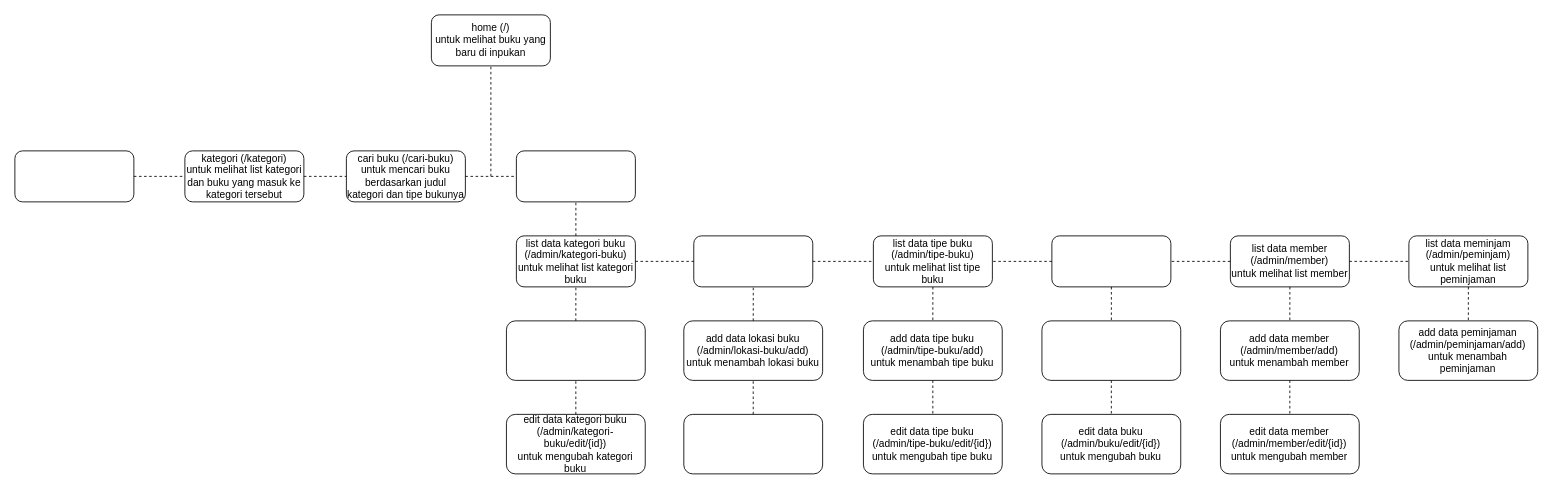
Some shapes in this 1553 by 490 pixel diagram are drawn without their labels. The centre of each missing label's shape, as x and y in pixels:
add data buku (/admin/buku/add) untuk menambah buku: pixel 1111 350
add data kategori buku (/admin/kategori-buku/add) untuk menambah kategori buku: pixel 575 350
detail buku (/buku/detail/{idbuku}) untuk melihat detail data buku: pixel 74 176
edit data lokasi buku (/admin/lokasi-buku/edit/{id}) untuk mengubah lokasi buku: pixel 753 444
list data buku (/admin/buku) untuk melihat list buku: pixel 1111 261
list data lokasi buku (/admin/kategori-buku) untuk melihat list lokasi buku: pixel 753 261
login admin (/login) untuk login akun admin: pixel 575 176
